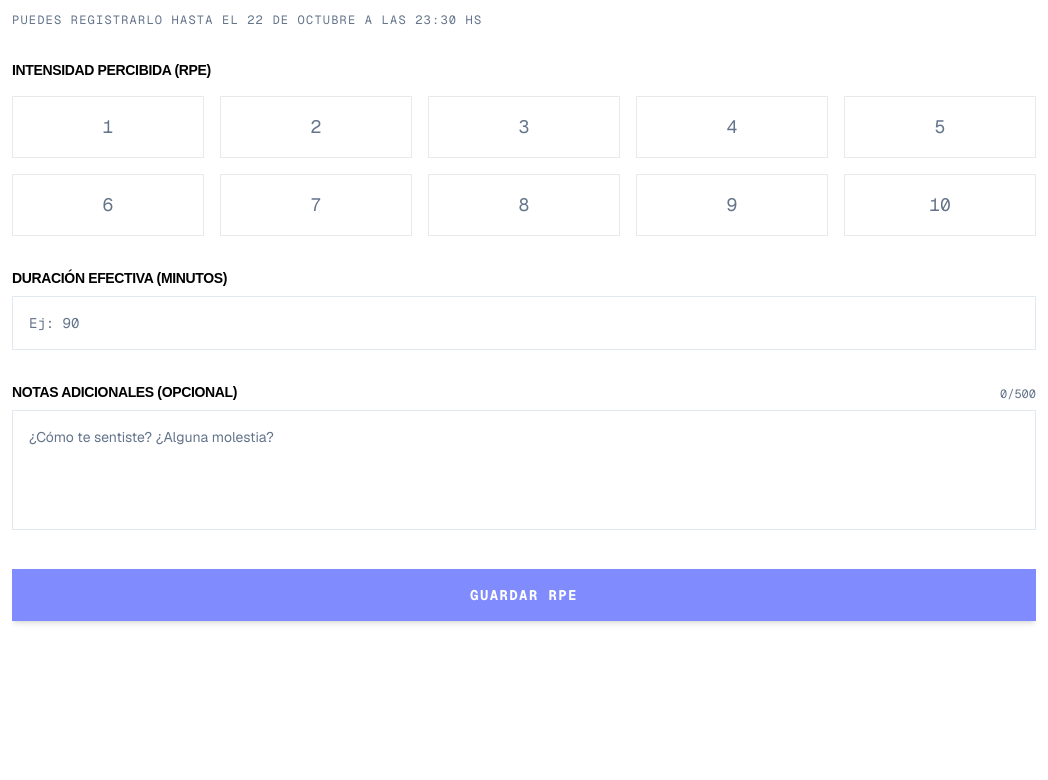
RpeForm — modo enlace › 403 NOT_CHECKED_IN → mensaje
Click the button "7" at {"x": 316, "y": 205}, box top-left (220, 174), bottom-right (412, 236)
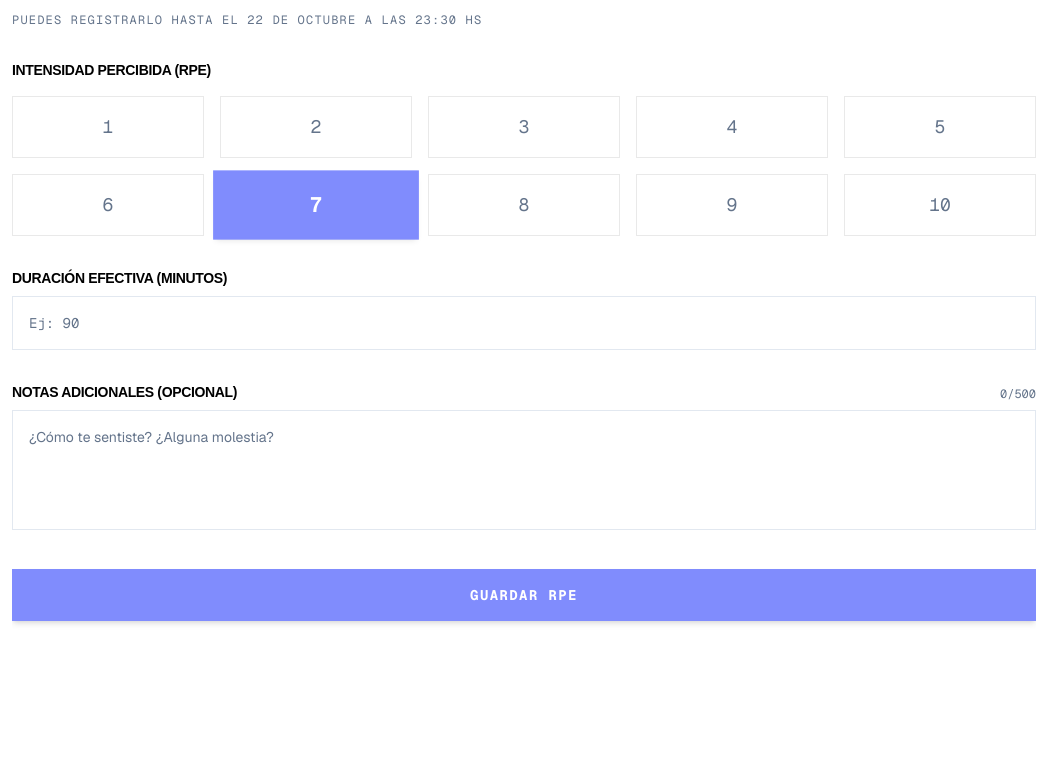
Type "60" into the number field labelled "Duración efectiva (minutos)" at {"x": 524, "y": 323}, box top-left (12, 296), bottom-right (1036, 350)
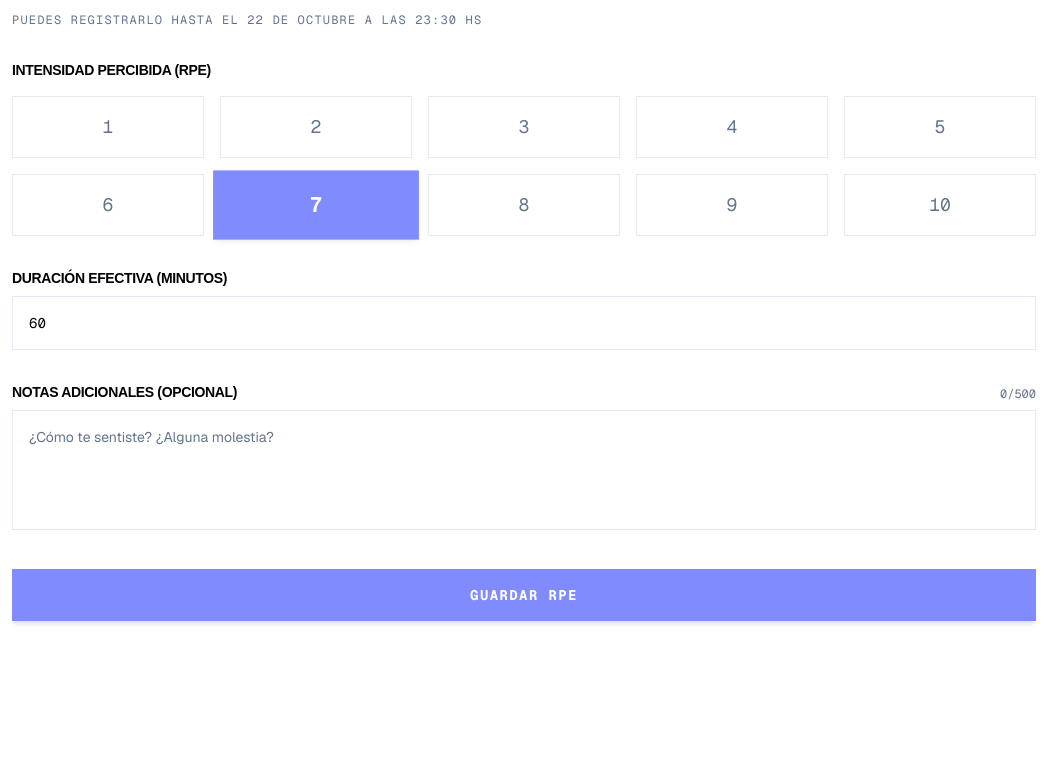
Click the button "Guardar RPE" at {"x": 524, "y": 595}, box top-left (12, 569), bottom-right (1036, 621)
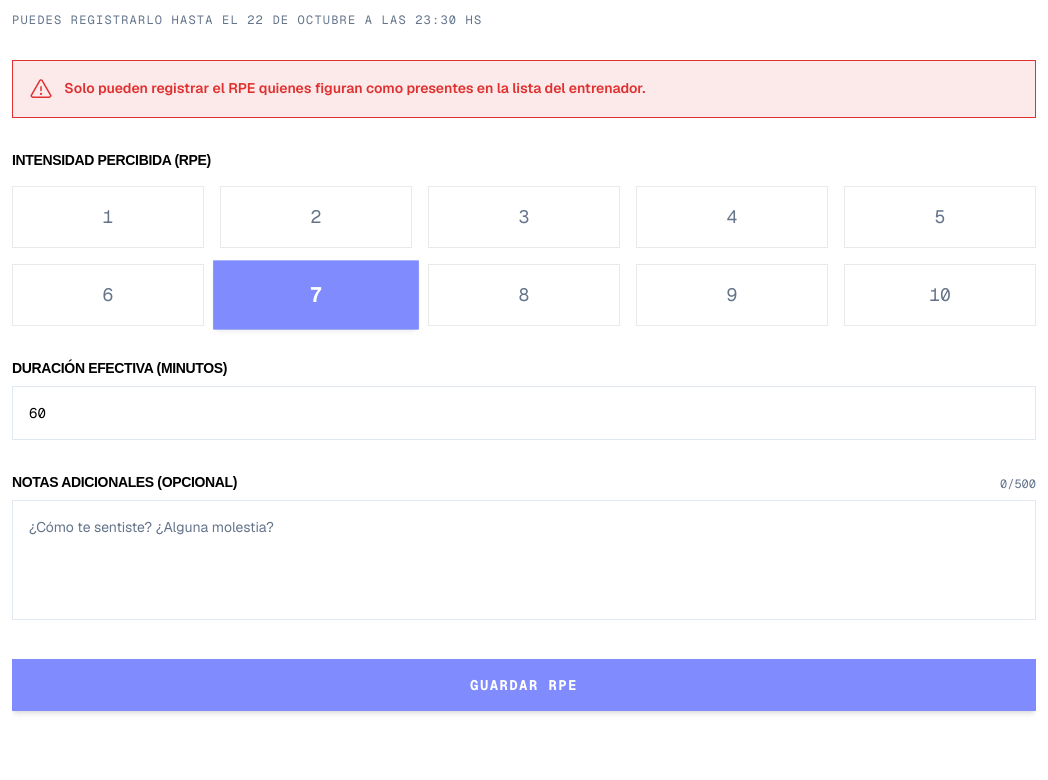
Expected: the button "Guardar RPE" is shown, top-left (12, 659), bottom-right (1036, 711)
Expected: the text "Solo pueden registrar el RPE quienes figuran como presentes en la lista del entrenador." is shown, top-left (64, 79), bottom-right (645, 97)
